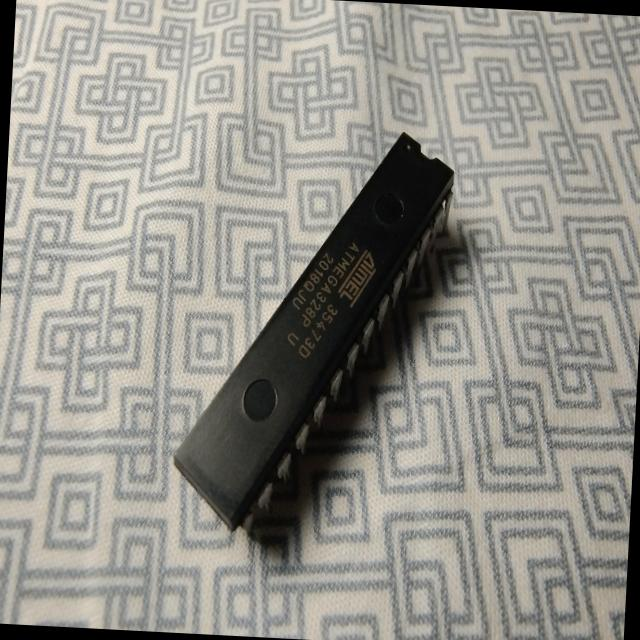atmega: (167, 118, 460, 550)
